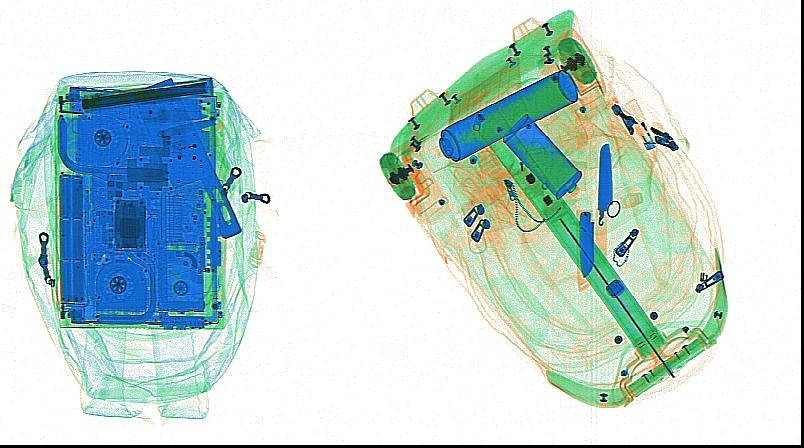knife: (131, 73, 241, 240), (593, 140, 613, 269), (572, 207, 593, 281)
lighter: (623, 96, 656, 152)
pressure: (414, 68, 577, 172)
zippooil: (502, 111, 582, 200)
